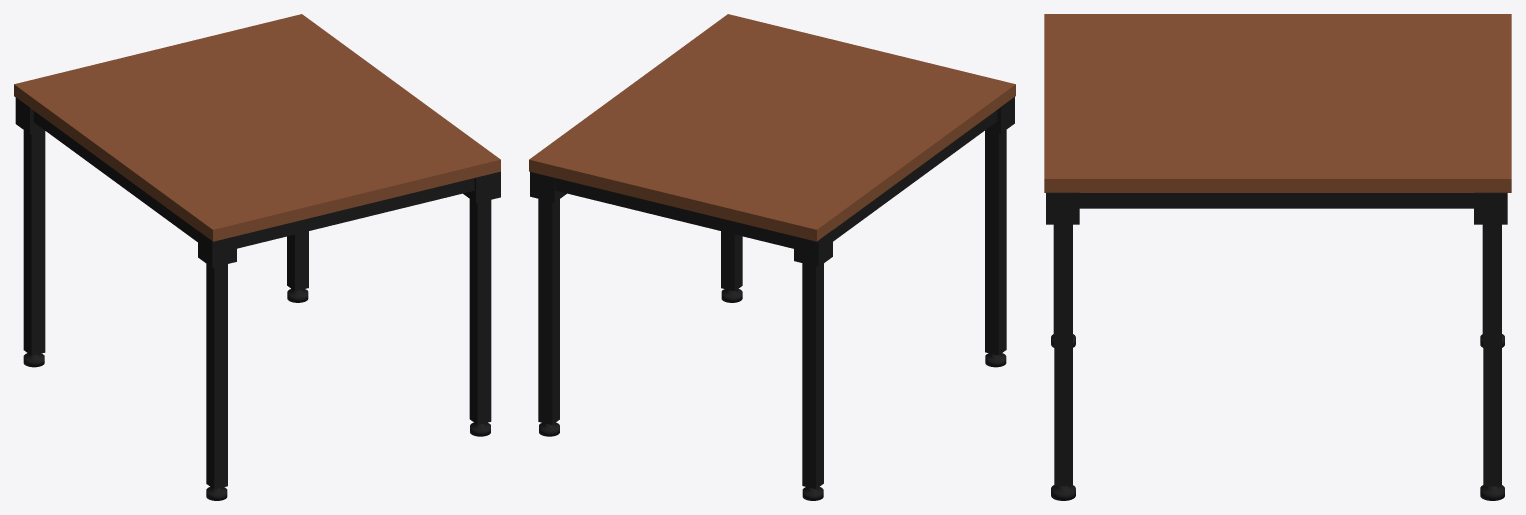
Rendered from mesa0.fbx.
3 views of the same model, side by side, from view 1: azimuth 30°, elevation 25°; view 2: azimuth 150°, elevation 25°; view 3: azimuth 270°, elevation 25° (orthographic). The views are drawn at different scales.
Visible parts, largest first — view 1: Cube.234; view 2: Cube.234; view 3: Cube.234.
Boxes of the visible parts, bbox=[...] form: Cube.234: bbox=[14, 14, 500, 500]; Cube.234: bbox=[529, 14, 1015, 500]; Cube.234: bbox=[1044, 14, 1511, 500].
Bounding box in the file's own units: 90.22 × 82.26 × 108.
